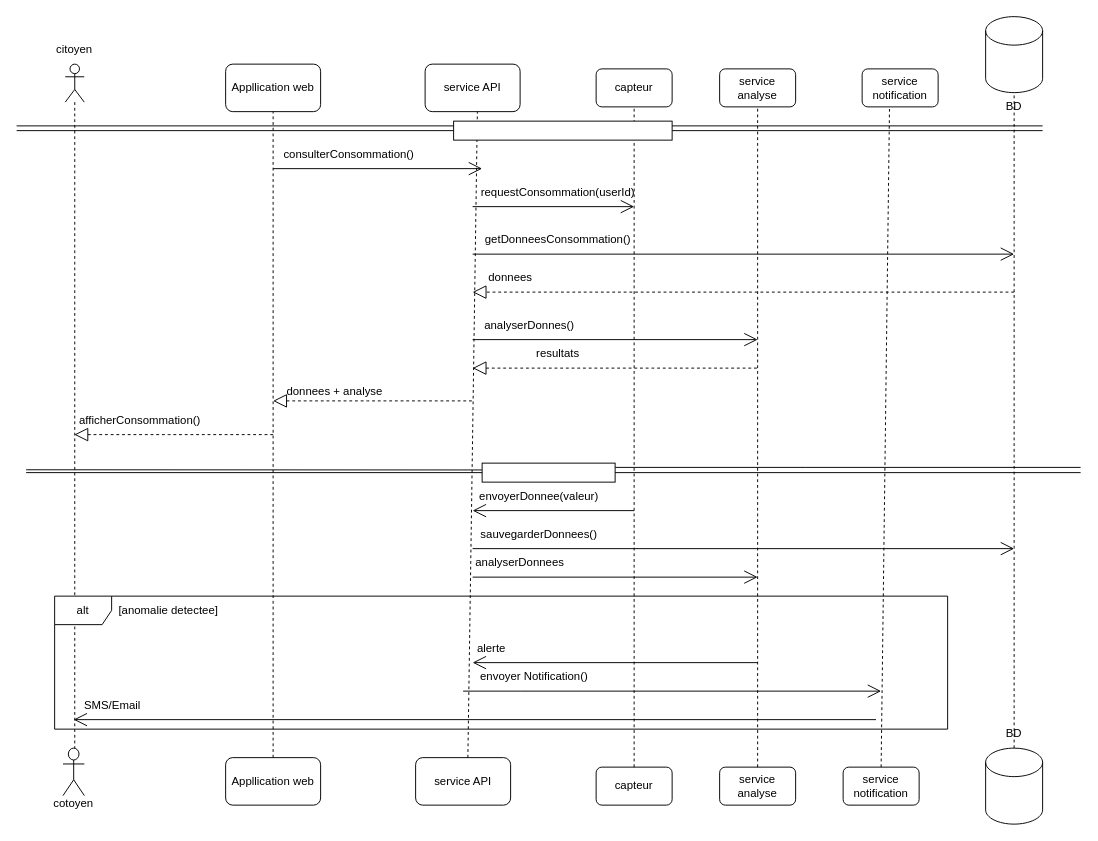
Image size: 1098x841. Some labels were removed from this diagram. The centre of each missing label's shape, as x and y in pixels:
"consultation de consommation" goes at point (562, 130).
"Detection anomalie" goes at point (548, 472).
